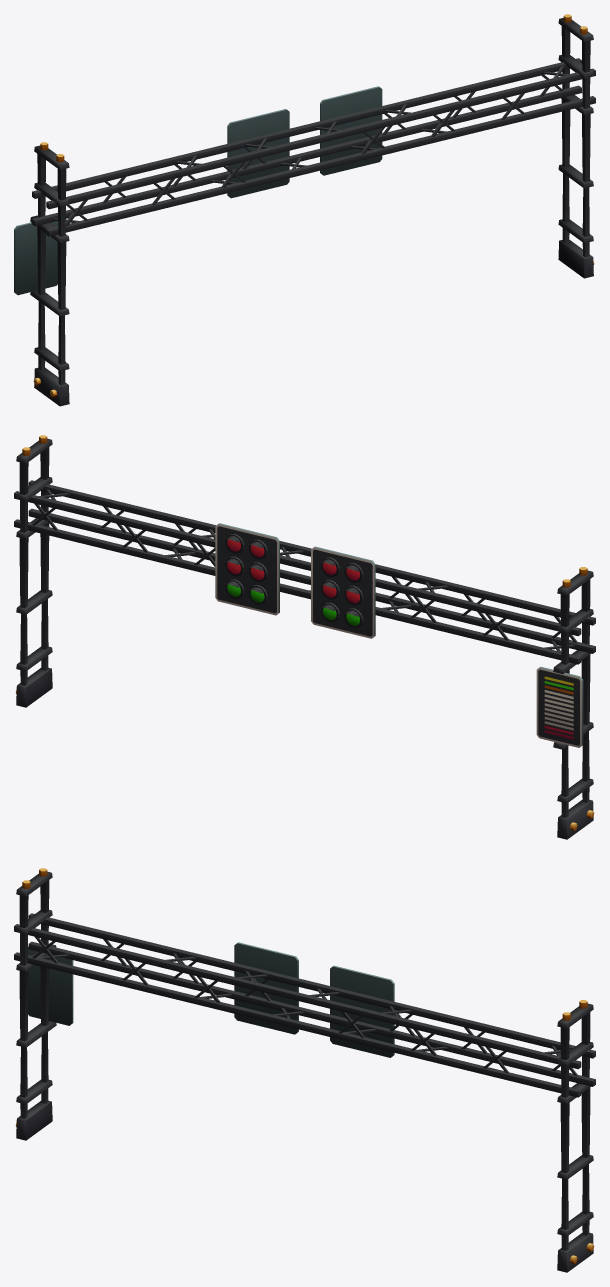
File: Sign_Support_1A.fbx
3 renders of one model, top to bottom at view 1: azimuth 30°, elevation 25°; view 2: azimuth 150°, elevation 25°; view 3: azimuth 330°, elevation 25°, orthographic. The views are drawn at different scales.
Visible parts, largest first — view 1: Sign_Support_1A; view 2: Sign_Support_1A, Lights_Green_Bottom, Lights_Red_Top, Lights_Red_Middle; view 3: Sign_Support_1A.
Part boxes in pixels (x1,y1,x2,y2): Sign_Support_1A: [14, 14, 595, 406]; Sign_Support_1A: [14, 435, 595, 839]; Lights_Green_Bottom: [227, 584, 359, 625]; Lights_Red_Top: [227, 539, 359, 580]; Lights_Red_Middle: [227, 562, 359, 603]; Sign_Support_1A: [14, 868, 595, 1272].
Size of the model in its own units: 31.91 by 13.46 by 2.94.
